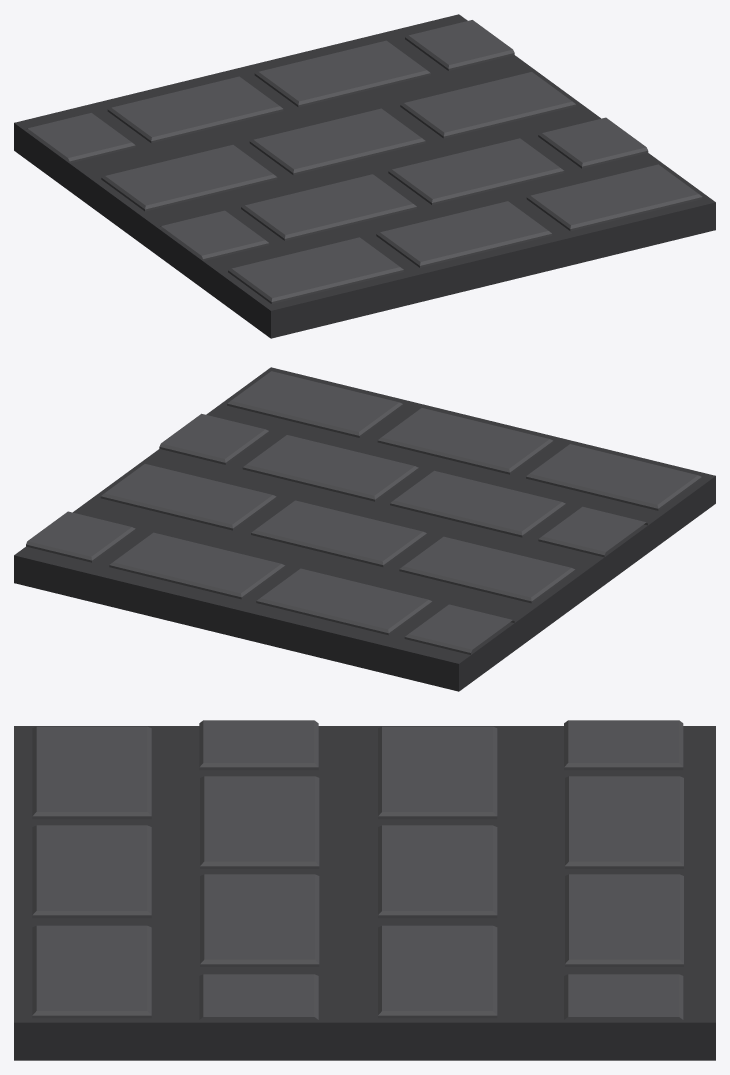
File: Pared de tunel nuevo.fbx
3 renders of one model, top to bottom at view 1: azimuth 30°, elevation 25°; view 2: azimuth 150°, elevation 25°; view 3: azimuth 270°, elevation 25°, orthographic. The views are drawn at different scales.
Parts seen in each view (by area): view 1: polySurface525; view 2: polySurface525; view 3: polySurface525.
Boxes of the visible parts, <box> form: polySurface525: <box>14,14,715,338</box>; polySurface525: <box>14,367,715,691</box>; polySurface525: <box>14,720,715,1060</box>.
Bounding box in the file's own units: 2.99 × 0.2063 × 2.99.
